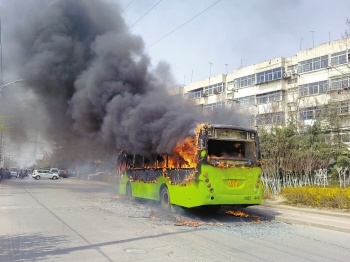fire: (115, 124, 207, 172), (207, 145, 247, 166)
